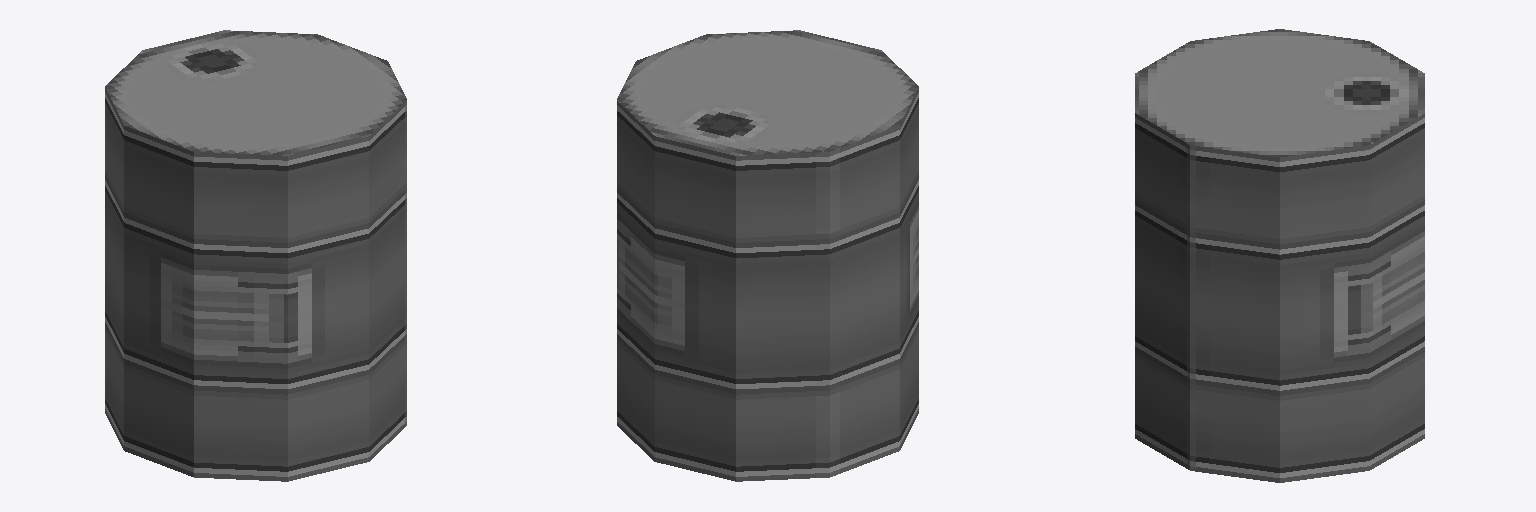
The picture shows the model from 3 angles: view 1: azimuth 30°, elevation 25°; view 2: azimuth 150°, elevation 25°; view 3: azimuth 270°, elevation 25°; orthographic projection.
Visible parts, largest first — view 1: Barrel_Mesh.008; view 2: Barrel_Mesh.008; view 3: Barrel_Mesh.008.
Part boxes in pixels (bbox=[...]): Barrel_Mesh.008: bbox=[105, 30, 406, 481]; Barrel_Mesh.008: bbox=[617, 30, 918, 481]; Barrel_Mesh.008: bbox=[1135, 29, 1424, 482].
Size of the model in its own units: 0.1678 by 0.1979 by 0.1595.
Materials: 1 (1 with a texture image).